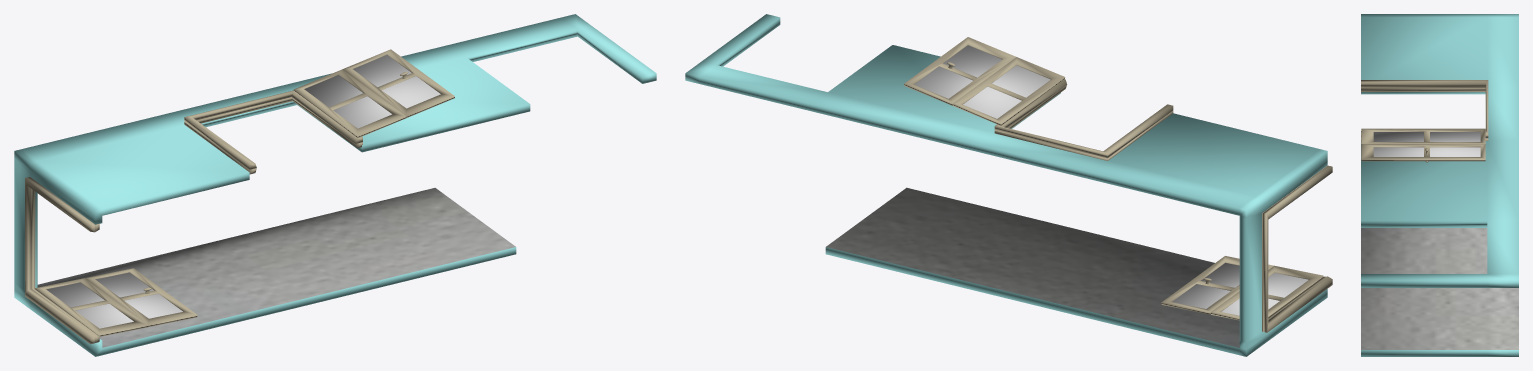
File: wall_anteroom_v3.fbx
3 renders of one model, left to right at view 1: azimuth 30°, elevation 25°; view 2: azimuth 150°, elevation 25°; view 3: azimuth 270°, elevation 25°, orthographic. The views are drawn at different scales.
Visible parts, largest first — view 1: Cube.001, Door-right_WOOD_-.001, Door-right_WOOD_-, FRAME01_WOOD_-_DR, FRAME01_WOOD_-_DR2; view 2: Cube.001, Door-right_WOOD_-.001, Door-right_WOOD_-, FRAME01_WOOD_-_DR2, FRAME01_WOOD_-_DR; view 3: Cube.001, Door-right_WOOD_-.001, FRAME01_WOOD_-_DR2.
Part boxes in pixels (<box>): Cube.001: <box>14,14,656,356</box>; Door-right_WOOD_-.001: <box>293,49,454,137</box>; Door-right_WOOD_-: <box>35,268,197,336</box>; FRAME01_WOOD_-_DR: <box>25,177,99,344</box>; FRAME01_WOOD_-_DR2: <box>184,90,362,174</box>; Cube.001: <box>685,14,1327,356</box>; Door-right_WOOD_-.001: <box>904,37,1065,125</box>; Door-right_WOOD_-: <box>1161,256,1323,320</box>; FRAME01_WOOD_-_DR2: <box>994,79,1173,160</box>; FRAME01_WOOD_-_DR: <box>1262,165,1332,332</box>; Cube.001: <box>1361,14,1518,356</box>; Door-right_WOOD_-.001: <box>1361,128,1485,162</box>; FRAME01_WOOD_-_DR2: <box>1361,80,1488,140</box>.
Bounding box in the file's own units: 0.0404 × 0.012 × 0.01.
4 materials, 1 textured.
